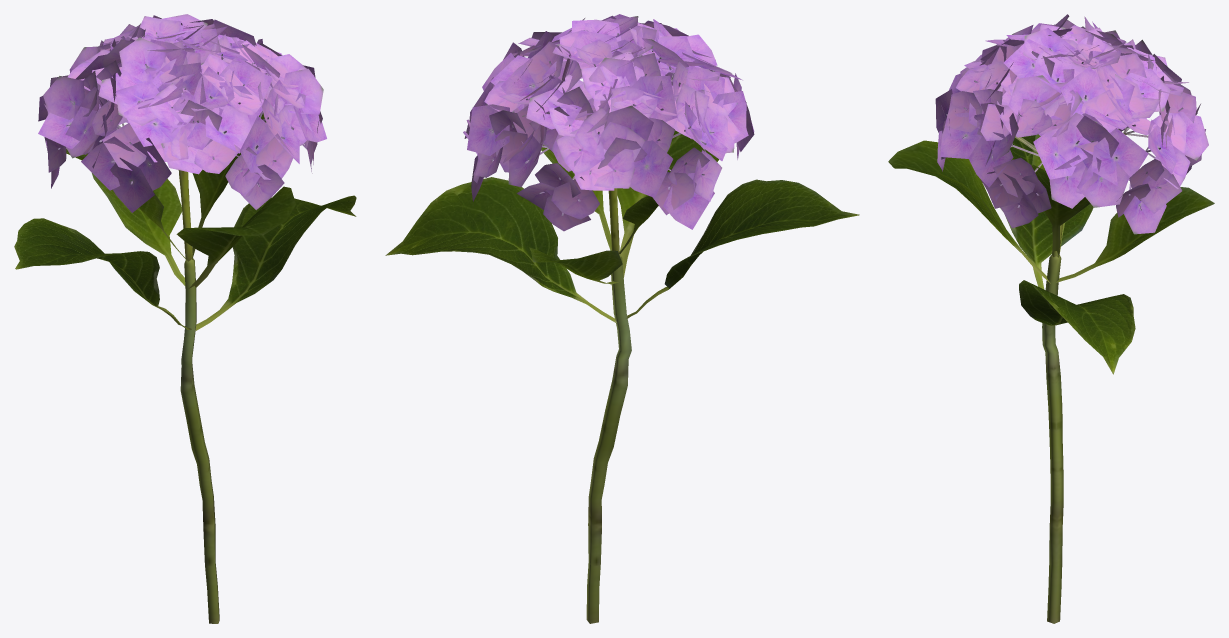
The model's file is Hydrangea OG SHORT MAGENTA.glb.
The picture shows the model from 3 angles, left to right: view 1: azimuth 30°, elevation 25°; view 2: azimuth 150°, elevation 25°; view 3: azimuth 270°, elevation 25°; orthographic projection. The views are drawn at different scales.
Visible parts, largest first — view 1: Hydrangea; view 2: Hydrangea; view 3: Hydrangea.
Part boxes in pixels (left/top/right/bottom): Hydrangea: left=14, top=14, right=356, bottom=623; Hydrangea: left=385, top=14, right=859, bottom=623; Hydrangea: left=888, top=14, right=1214, bottom=623.
Bounding box in the file's own units: 1.38 × 1.94 × 1.
Materials: 1 (1 with a texture image).
